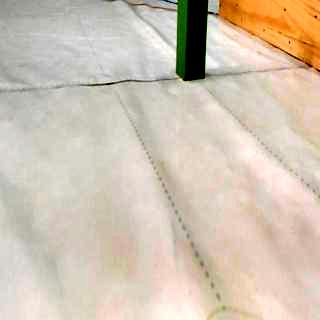greenbox: (175, 0, 209, 79)
